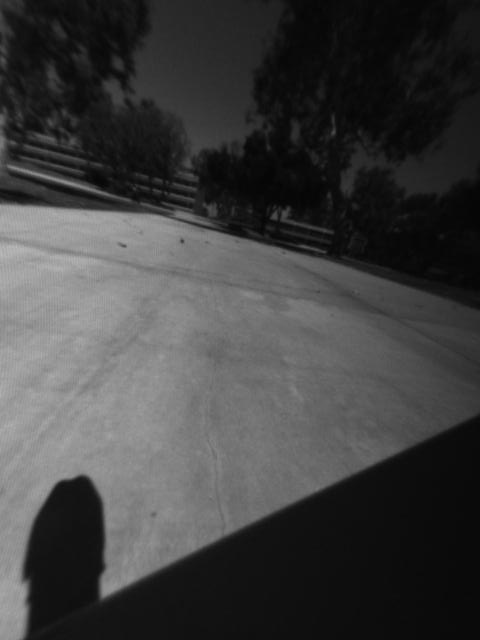dogtoy: (172, 230, 192, 254)
